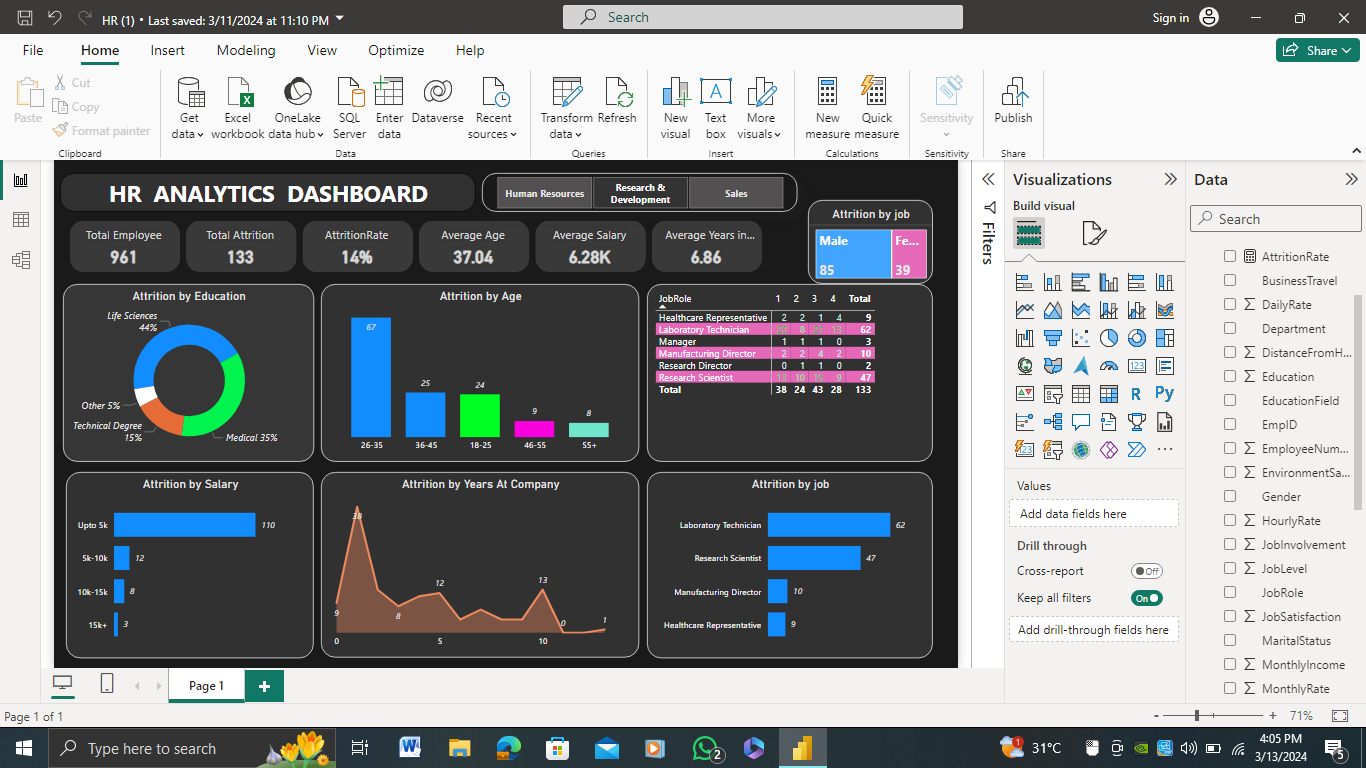

The dashboard page shown, as its layout file describes it:
{"tool":"powerbi","page":{"name":"Page 1","canvas":[1280,720],"ordinal":0},"visuals":[{"type":"donutChart","title":"Attrition by Education","fields":{"Category":["HR_Analytics.EducationField"],"Y":["HR_Analytics.AttritionCount"]},"box":[12.8,175.7,355.7,252.3],"z":0},{"type":"columnChart","title":"Attrition by Age","fields":{"Y":["HR_Analytics.AttritionCount"],"Category":["HR_Analytics.AgeGroup"]},"box":[378.7,176.1,451.1,252.1],"z":1000},{"type":"pivotTable","fields":{"Rows":["HR_Analytics.JobRole"],"Columns":["HR_Analytics.JobSatisfaction"],"Values":["HR_Analytics.AttritionCount"]},"box":[840.5,175.7,405.4,252.3],"z":2000},{"type":"barChart","title":"Attrition by Salary","fields":{"Category":["HR_Analytics.SalarySlab"],"Y":["HR_Analytics.AttritionCount"]},"box":[17,442.2,351.5,263.6],"z":3000},{"type":"barChart","title":"Attrition by job","fields":{"Category":["HR_Analytics.JobRole"],"Y":["HR_Analytics.AttritionCount"]},"box":[840.5,442.2,405.4,263.6],"z":4000},{"type":"areaChart","title":"Attrition by Years At Company","fields":{"Y":["HR_Analytics.AttritionCount"],"Category":["HR_Analytics.YearsAtCompany"]},"box":[378.7,442.6,451.1,262.9],"z":5000},{"type":"treemap","title":"Attrition by job","fields":{"Group":["HR_Analytics.Gender"],"Values":["HR_Analytics.AttritionCount"]},"box":[1068.7,45.4,177.2,119.1],"z":6000},{"type":"slicer","fields":{"Values":["HR_Analytics.Department"]},"box":[607,18.6,447.4,55.5],"z":7000},{"type":"textbox","box":[8.4,18.6,588.5,55.5],"z":8000},{"type":"cardVisual","fields":{"Data":["HR_Analytics.EmployeeCount","HR_Analytics.AttritionCount","HR_Analytics.AttritionRate","HR_Analytics.Age","HR_Analytics.MonthlyIncome","HR_Analytics.YearsAtCompany"]},"box":[17,80.8,996.4,83.6],"z":9000}]}

Visuals, with their boxes on the page's 1280x720 design canvas (x1, y1, x2, y2). These are canvas units, not pixel positions in the 1366x768 screenshot, which may show the page scaled, cropped or inside an application window:
"Attrition by Education" donutChart: [13, 176, 368, 428]
"Attrition by Age" columnChart: [379, 176, 830, 428]
pivotTable - HR_Analytics.JobRole x HR_Analytics.JobSatisfaction: [840, 176, 1246, 428]
"Attrition by Salary" barChart: [17, 442, 368, 706]
"Attrition by job" barChart: [840, 442, 1246, 706]
"Attrition by Years At Company" areaChart: [379, 443, 830, 706]
"Attrition by job" treemap: [1069, 45, 1246, 164]
slicer - HR_Analytics.Department: [607, 19, 1054, 74]
textbox: [8, 19, 597, 74]
cardVisual - HR_Analytics.EmployeeCount x HR_Analytics.AttritionCount: [17, 81, 1013, 164]
